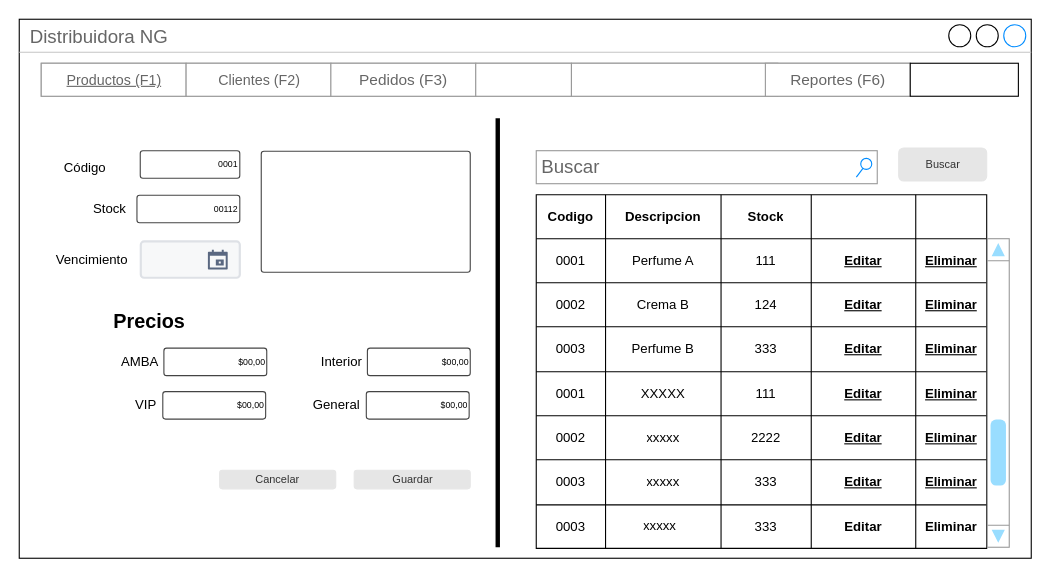
Image size: 1051x578. Some labels were removed from this diagram. The shapes that lost their labels are listed below. From the top down, each one's centre as x and y in pixels, then its label:
(x=523, y=79): Caja (F4)
(x=674, y=79): Proveedores (F5)
(x=963, y=79): Seguridad (F7)
(x=365, y=211): Crema AAA
